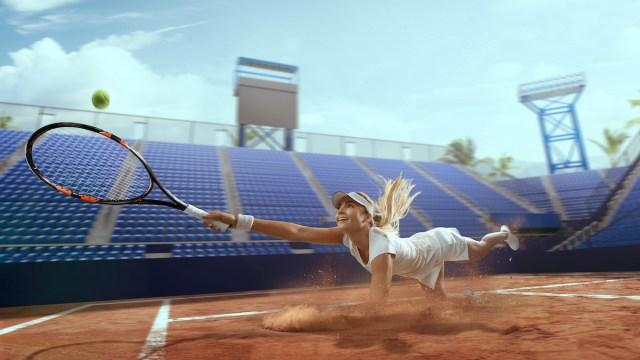ball_tennis: (91, 88, 111, 110)
